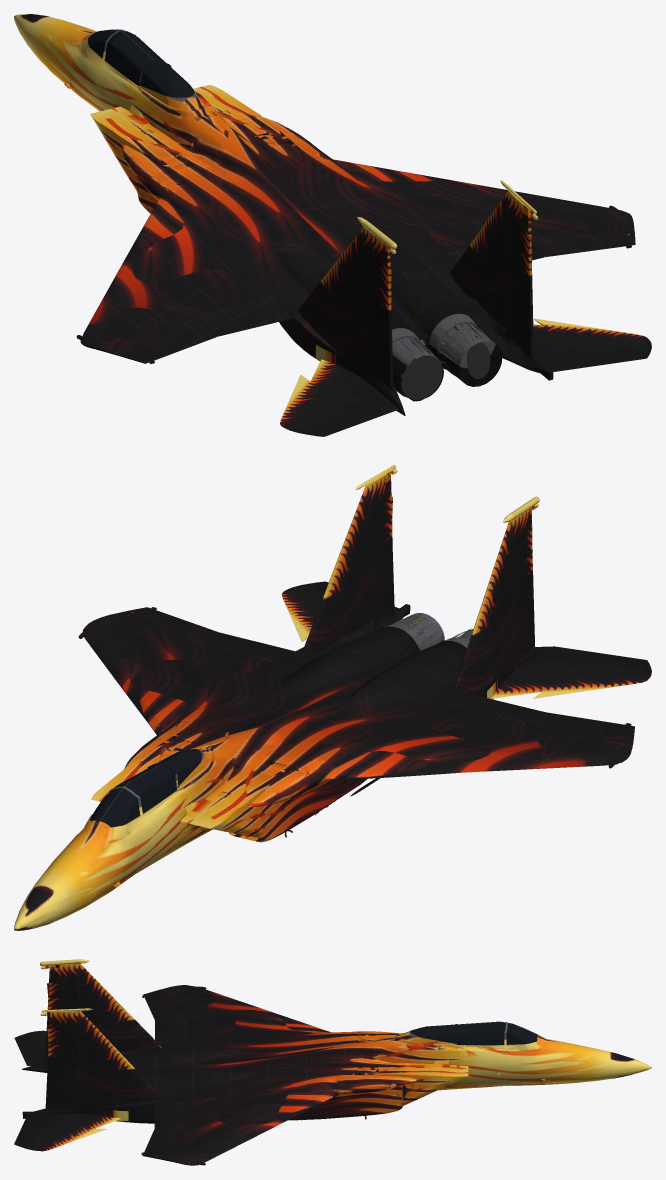
Rendered from e_f15e.inferno.glb.
3 renders of one model, top to bottom at view 1: azimuth 30°, elevation 25°; view 2: azimuth 150°, elevation 25°; view 3: azimuth 270°, elevation 25°, orthographic. The views are drawn at different scales.
Parts seen in each view (by area): view 1: F15_body, F15_glass, F15_soot; view 2: F15_body, F15_glass; view 3: F15_body, F15_glass.
Boxes of the visible parts, <box> form: F15_body: <box>14,14,651,436</box>; F15_glass: <box>88,29,194,97</box>; F15_soot: <box>400,342,490,399</box>; F15_body: <box>14,465,651,930</box>; F15_glass: <box>90,749,201,827</box>; F15_body: <box>14,959,651,1165</box>; F15_glass: <box>410,1021,537,1045</box>.
Bounding box in the file's own units: 12.87 × 4.16 × 19.38.
3 materials, 1 textured.
